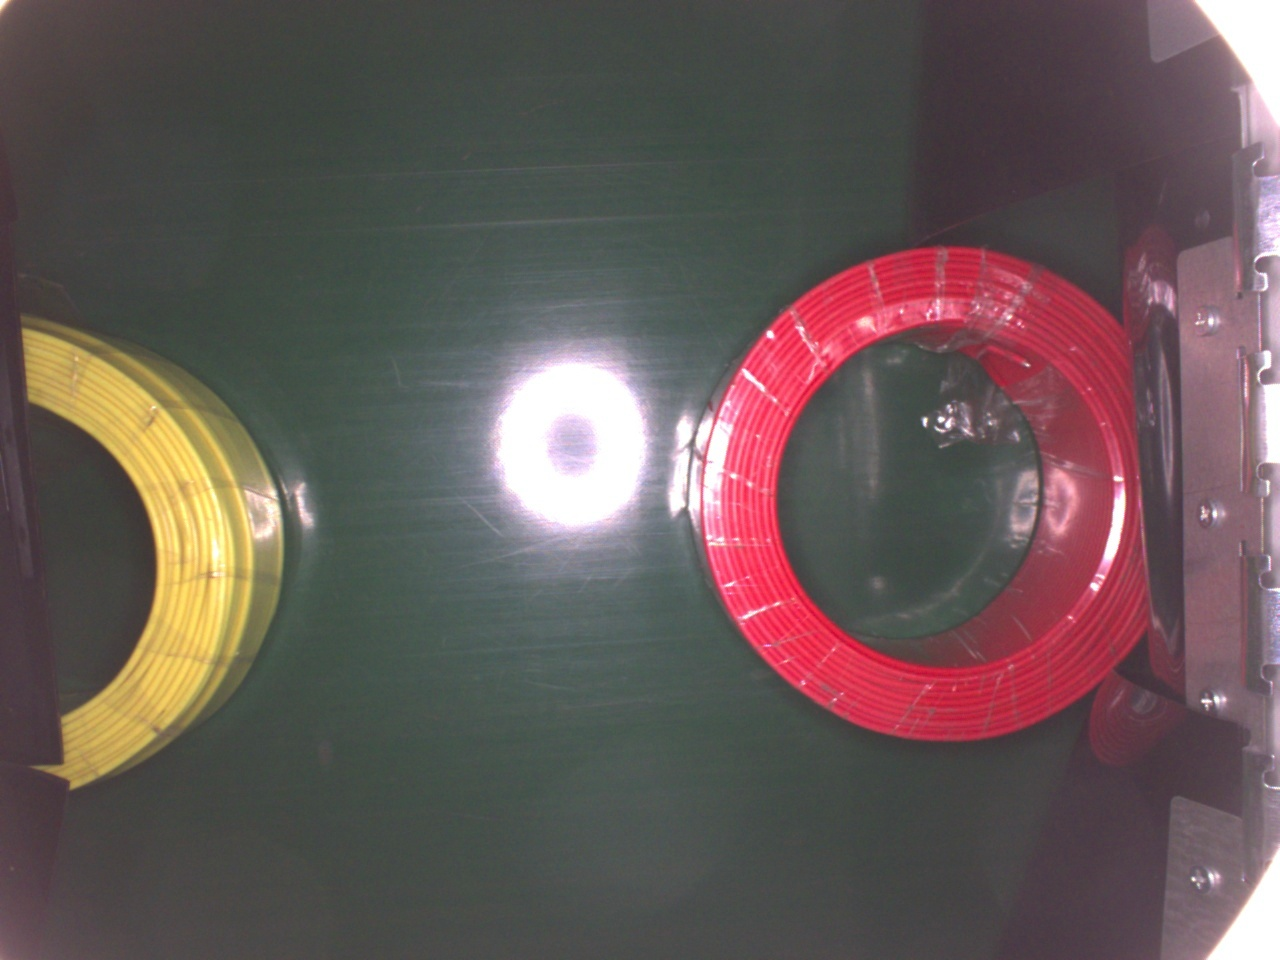red: (688, 242, 1163, 744)
yellow: (18, 301, 286, 801)
